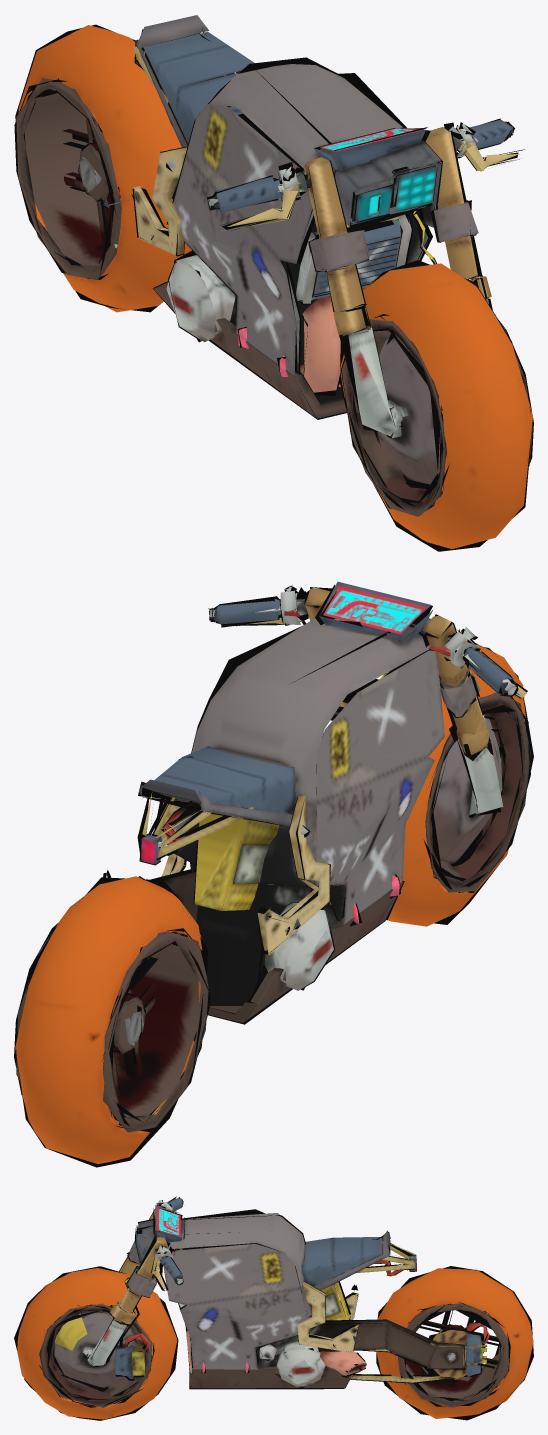
File: bike.glb
3 renders of one model, top to bottom at view 1: azimuth 30°, elevation 25°; view 2: azimuth 150°, elevation 25°; view 3: azimuth 270°, elevation 25°, orthographic. The views are drawn at different scales.
Parts seen in each view (by area): view 1: Object_2, Object_3; view 2: Object_2, Object_3; view 3: Object_2, Object_3.
Part boxes in pixels (box(x1,y1,x2,y2)): Object_2: box(16, 15, 532, 548); Object_3: box(14, 24, 533, 551); Object_2: box(15, 581, 530, 1163); Object_3: box(14, 584, 533, 1167); Object_2: box(17, 1198, 533, 1419); Object_3: box(14, 1196, 533, 1420).
Size of the model in its own units: 1.1 by 1.24 by 2.93.
Materials: 2 (2 with a texture image).
